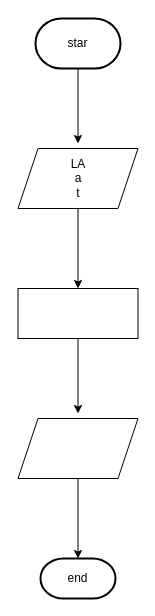
The diagram is 155 pixels wide and 616 high, and some of its shapes have lost their labels. Here are the shapes that lost their labels. From the top down, the centre of each, then its label:
the point at 77,313: LA=1\2 x a x t
the point at 77,448: LA
